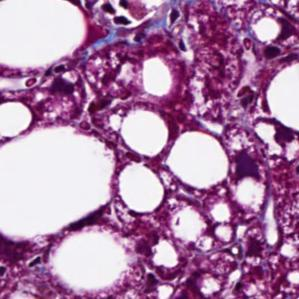inflammation: (94, 0, 152, 46), (43, 65, 88, 104), (245, 29, 289, 66)
